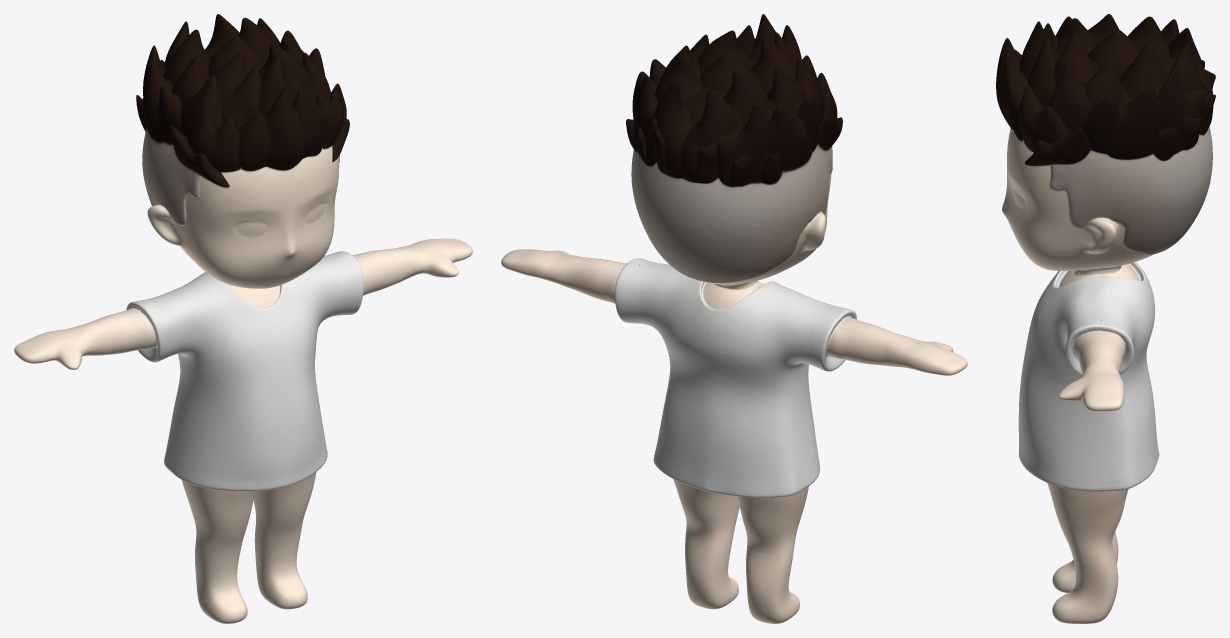
Rendered from baked_nhair_spiky.glb.
3 renders of one model, left to right at view 1: azimuth 30°, elevation 25°; view 2: azimuth 150°, elevation 25°; view 3: azimuth 270°, elevation 25°, orthographic. The views are drawn at different scales.
Bounding box in the file's own units: 1.57 × 1.9 × 0.6479.
Materials: 1 (1 with a texture image).
